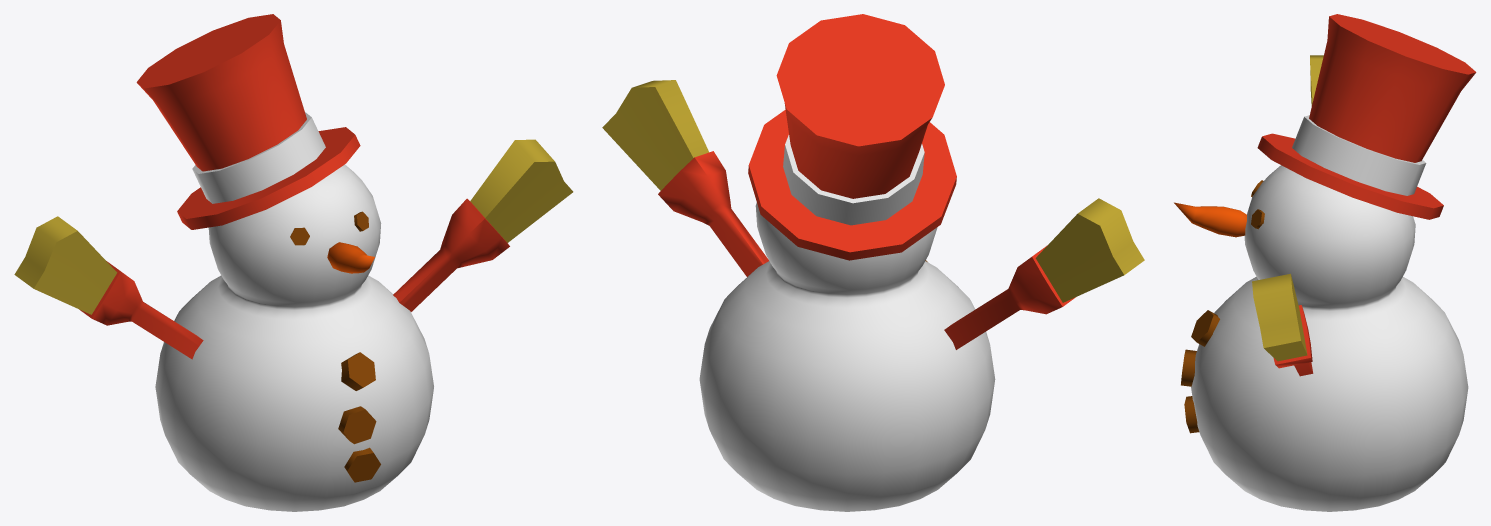
The model's file is Snowman.fbx.
The picture shows the model from 3 angles, left to right: view 1: azimuth 30°, elevation 25°; view 2: azimuth 150°, elevation 25°; view 3: azimuth 270°, elevation 25°; orthographic projection. The views are drawn at different scales.
Parts seen in each view (by area): view 1: Snowman; view 2: Snowman; view 3: Snowman.
Part boxes in pixels (box(x1,y1,x2,y2)): Snowman: box(14, 14, 573, 511); Snowman: box(602, 14, 1144, 511); Snowman: box(1174, 14, 1476, 511).
Size of the model in its own units: 390 by 328 by 199.
